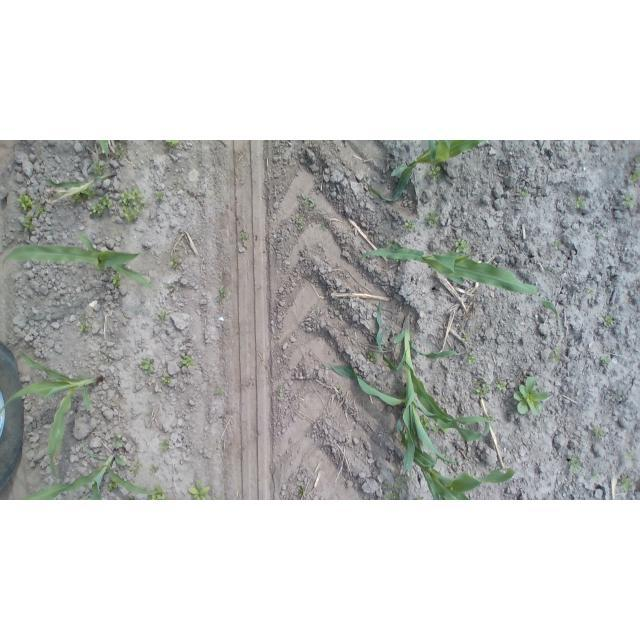Maize: (323, 297, 492, 471), (357, 246, 564, 335), (0, 350, 104, 484), (2, 232, 158, 298), (397, 416, 514, 501), (19, 438, 161, 500), (364, 141, 485, 204), (45, 171, 117, 205), (99, 140, 109, 160)
Weeds: (514, 373, 549, 416), (118, 187, 146, 225), (382, 472, 412, 500), (89, 193, 112, 218), (188, 480, 212, 500), (17, 190, 33, 211), (137, 358, 157, 374), (566, 453, 583, 471), (473, 380, 489, 397), (616, 474, 633, 490), (300, 194, 316, 211), (425, 210, 440, 228), (455, 238, 471, 254), (76, 312, 88, 333), (21, 214, 35, 232), (147, 487, 166, 500), (91, 161, 107, 176), (80, 187, 97, 201), (214, 285, 226, 304), (427, 165, 442, 180), (622, 193, 637, 208), (113, 432, 126, 449), (403, 219, 417, 234), (180, 354, 195, 366), (155, 310, 170, 322), (629, 166, 640, 182), (159, 438, 170, 454), (131, 459, 141, 476), (109, 274, 121, 287), (169, 256, 181, 269), (575, 195, 586, 209), (552, 348, 562, 363), (518, 188, 530, 200), (494, 380, 506, 392), (603, 314, 614, 327), (367, 350, 378, 363), (161, 376, 174, 387), (592, 424, 602, 438), (238, 229, 248, 243), (296, 214, 305, 229), (551, 239, 562, 250), (155, 190, 166, 201), (71, 193, 82, 204), (600, 355, 612, 365), (319, 220, 329, 231), (467, 352, 476, 364), (275, 386, 284, 398), (422, 417, 430, 430), (164, 283, 174, 293), (462, 332, 471, 343), (109, 479, 118, 489), (150, 465, 159, 475), (34, 205, 44, 214), (298, 486, 306, 497), (595, 233, 605, 241), (213, 386, 223, 394), (591, 471, 602, 478), (336, 386, 344, 395), (165, 141, 179, 146), (626, 451, 634, 459), (381, 214, 388, 223), (587, 289, 594, 297), (386, 239, 393, 246), (117, 151, 124, 158), (488, 414, 496, 420), (442, 429, 451, 434), (431, 425, 438, 431), (172, 180, 178, 187), (33, 199, 39, 206), (118, 142, 123, 150), (635, 156, 640, 163), (417, 495, 424, 500), (455, 368, 461, 373), (125, 497, 135, 500), (104, 353, 109, 359), (444, 369, 449, 373)
